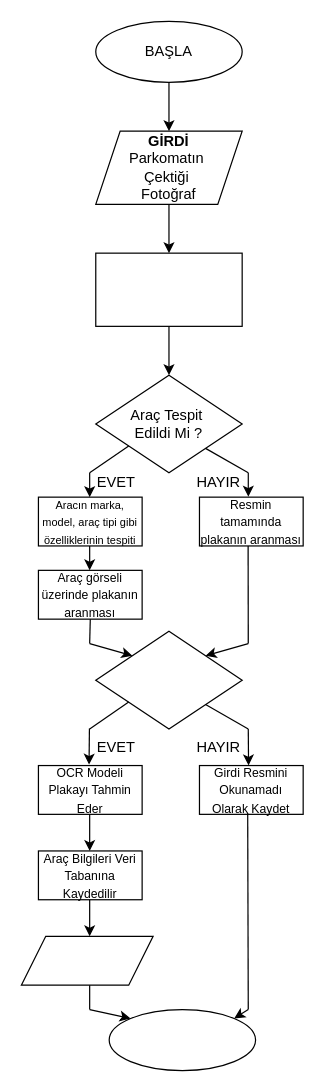
The diagram is 325 pixels wide and 1092 high, and some of its shapes have lost their labels. The shapes that lost their labels are listed below. From the top down, each one's centre as x and y in pixels, then its label:
At point 168,289: "İlk YOLO modeli görseldeki aracı tespit etmeye çalışır.".
At point 168,679: "Plaka Tespit Edildi Mi ?".
At point 86,960: "ÇIKTI Araç Bilgileri".
At point 182,1039: "BİTİR".
